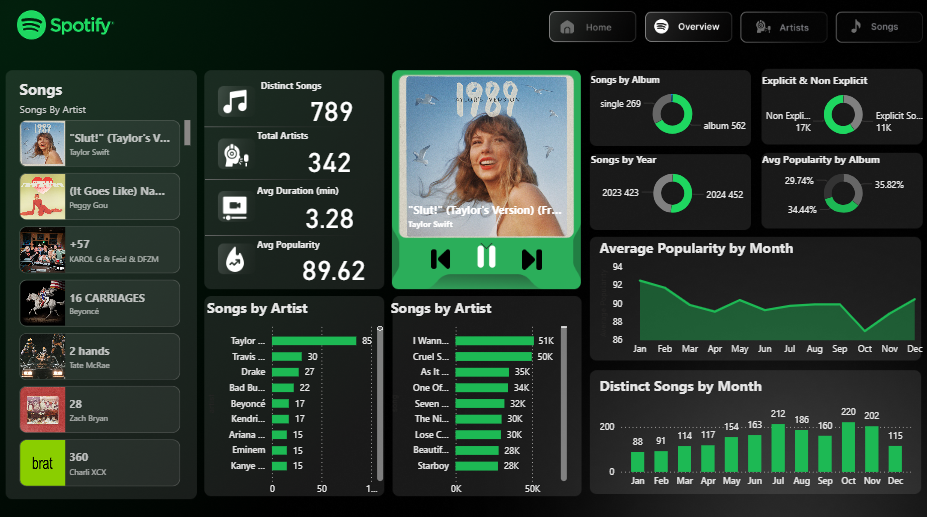

The page's visual inventory and layout, read from the dashboard file:
{"tool":"powerbi","page":{"name":"Overview","canvas":[1280,720],"ordinal":1},"visuals":[{"type":"clusteredBarChart","title":"Songs by Artist","fields":{"Category":["Spotify-Top-50-World.artist"],"Y":["'Measures'.Distinct Songs"]},"box":[295,413.3,245,273.3],"z":0},{"type":"clusteredBarChart","title":"Songs by Artist","fields":{"Category":["Spotify-Top-50-World.song"],"Y":["Sum(Spotify-Top-50-World.popularity)"]},"box":[540,413.3,245,273.3],"z":1000},{"type":"areaChart","fields":{"Y":["'Measures'.Average Popularity"],"Category":["Top-50-World.Month"]},"box":[819,332.9,443.8,165.6],"z":2000},{"type":"donutChart","title":"Songs by Album","fields":{"Category":["Top-50-World.album_type"],"Y":["'Measures'.Distinct Songs"]},"box":[806.7,113.3,228.3,93.3],"z":3000},{"type":"donutChart","title":"Explicit & Non Explicit","fields":{"Y":["'Measures'.Explicit Songs","'Measures'.Non Explicit Songs"]},"box":[1035.6,112.7,227.2,93.3],"z":4000},{"type":"donutChart","title":"Songs by Year","fields":{"Y":["'Measures'.Distinct Songs"],"Category":["Top-50-World.Year"]},"box":[806.7,218.4,229,93.3],"z":5000},{"type":"donutChart","title":"Avg Popularity by Album","fields":{"Category":["Top-50-World.album_type"],"Y":["'Measures'.Average Popularity"]},"box":[1035.6,218.4,227.2,93.3],"z":6000},{"type":"columnChart","fields":{"Y":["'Measures'.Distinct Songs"],"Category":["Top-50-World.Month"]},"box":[819,516.1,426.2,158.5],"z":7000},{"type":"image","box":[321.2,133.8,31.2,36.2],"z":8000},{"type":"image","box":[321.2,206.2,35,32.5],"z":9000},{"type":"image","box":[318.8,275,37.5,37.5],"z":10000},{"type":"image","box":[318.8,345,48.8,33.8],"z":11000},{"type":"advancedSlicerVisual","title":"Songs","fields":{"Values":["Top-50-World.song"]},"box":[549.9,89.9,245.4,269.6],"z":12000},{"type":"advancedSlicerVisual","title":"Songs","fields":{"Values":["Top-50-World.song"]},"box":[44.3,122,238.7,552.6],"z":13000},{"type":"image","box":[626.3,343.3,92.5,29.5],"z":14000},{"type":"image","box":[697.4,346,73.8,30.8],"z":15000},{"type":"image","box":[587.4,346,49.6,29.5],"z":16000},{"type":"actionButton","box":[754.7,31.9,114.2,40],"z":17000},{"type":"actionButton","box":[883.1,31.9,112.1,40],"z":18000},{"type":"actionButton","box":[1009.4,32.4,114.2,40],"z":19000},{"type":"actionButton","box":[1136.2,31.9,112.6,40],"z":20000},{"type":"card","title":"Distinct Songs","fields":{"Values":["'Measures'.Distinct Songs"]},"box":[371.7,121.7,188.3,60],"z":20001},{"type":"card","title":"Total Artists","fields":{"Values":["Count(Top-50-World.artist)"]},"box":[366.7,188.3,193.3,61.7],"z":20002},{"type":"card","title":"Avg Duration (min)","fields":{"Values":["'Measures'.Average Duration (min)"]},"box":[366.7,261.7,193.3,65],"z":20003},{"type":"card","title":"Avg Popularity","fields":{"Values":["'Measures'.Average Popularity"]},"box":[366.7,333.3,205,60],"z":20004}]}

Visuals, with their boxes in screenshot pixels (x1, y1, x2, y2), scaled from the page's 1280x720 canvas onto the 927x517 screenshot:
"Songs by Artist" clusteredBarChart: (x1=214, y1=297, x2=391, y2=493)
"Songs by Artist" clusteredBarChart: (x1=391, y1=297, x2=569, y2=493)
areaChart - 'Measures'.Average Popularity x Top-50-World.Month: (x1=593, y1=239, x2=915, y2=358)
"Songs by Album" donutChart: (x1=584, y1=81, x2=750, y2=148)
"Explicit & Non Explicit" donutChart: (x1=750, y1=81, x2=915, y2=148)
"Songs by Year" donutChart: (x1=584, y1=157, x2=750, y2=224)
"Avg Popularity by Album" donutChart: (x1=750, y1=157, x2=915, y2=224)
columnChart - 'Measures'.Distinct Songs x Top-50-World.Month: (x1=593, y1=371, x2=902, y2=484)
image: (x1=233, y1=96, x2=255, y2=122)
image: (x1=233, y1=148, x2=258, y2=171)
image: (x1=231, y1=197, x2=258, y2=224)
image: (x1=231, y1=248, x2=266, y2=272)
"Songs" advancedSlicerVisual: (x1=398, y1=65, x2=576, y2=258)
"Songs" advancedSlicerVisual: (x1=32, y1=88, x2=205, y2=484)
image: (x1=454, y1=247, x2=521, y2=268)
image: (x1=505, y1=248, x2=559, y2=271)
image: (x1=425, y1=248, x2=461, y2=270)
actionButton: (x1=547, y1=23, x2=629, y2=52)
actionButton: (x1=640, y1=23, x2=721, y2=52)
actionButton: (x1=731, y1=23, x2=814, y2=52)
actionButton: (x1=823, y1=23, x2=904, y2=52)
"Distinct Songs" card: (x1=269, y1=87, x2=406, y2=130)
"Total Artists" card: (x1=266, y1=135, x2=406, y2=180)
"Avg Duration (min)" card: (x1=266, y1=188, x2=406, y2=235)
"Avg Popularity" card: (x1=266, y1=239, x2=414, y2=282)
